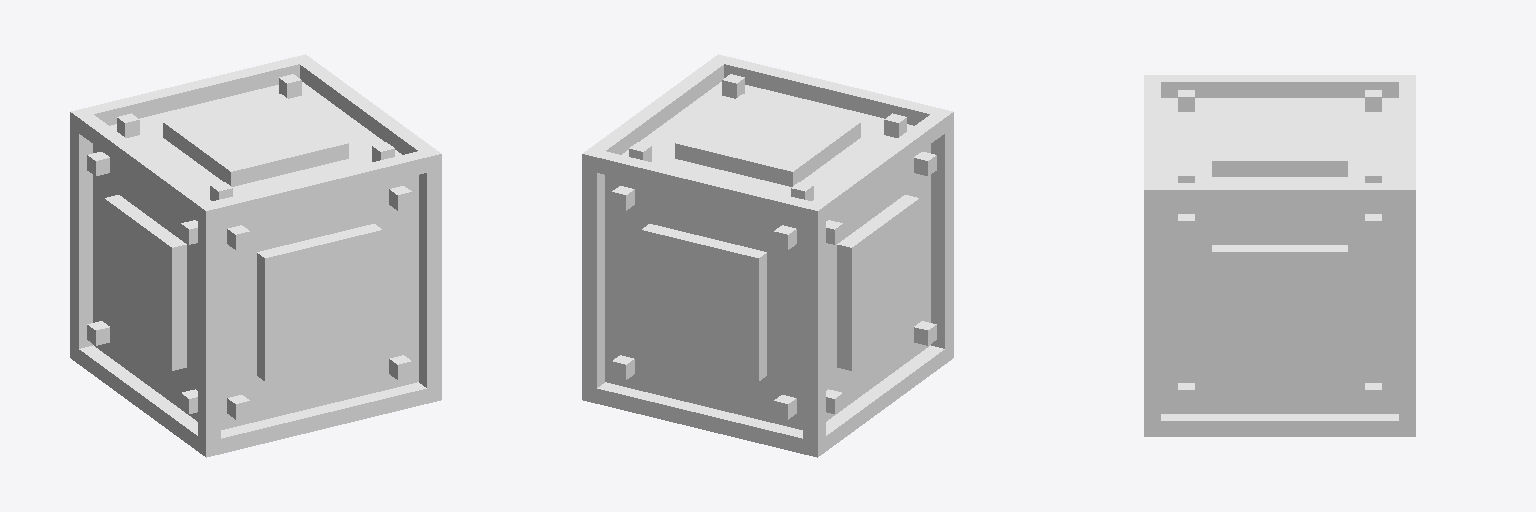
The model's file is controller.obj.
3 renders of one model, left to right at view 1: azimuth 30°, elevation 25°; view 2: azimuth 150°, elevation 25°; view 3: azimuth 270°, elevation 25°, orthographic.
Visible parts, largest first — view 1: controller:controller; view 2: controller:controller; view 3: controller:controller.
Boxes of the visible parts, x1=… form: controller:controller: x1=70, y1=54, x2=441, y2=457; controller:controller: x1=582, y1=54, x2=953, y2=457; controller:controller: x1=1144, y1=75, x2=1415, y2=436.
Bounding box in the file's own units: 1 × 1 × 1.